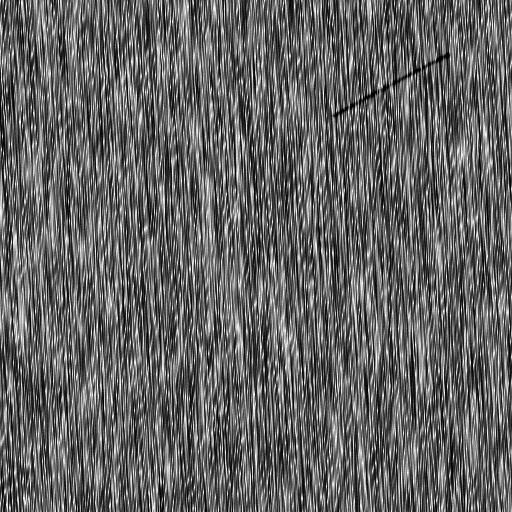DefectTypeC: (334, 51, 454, 112)
